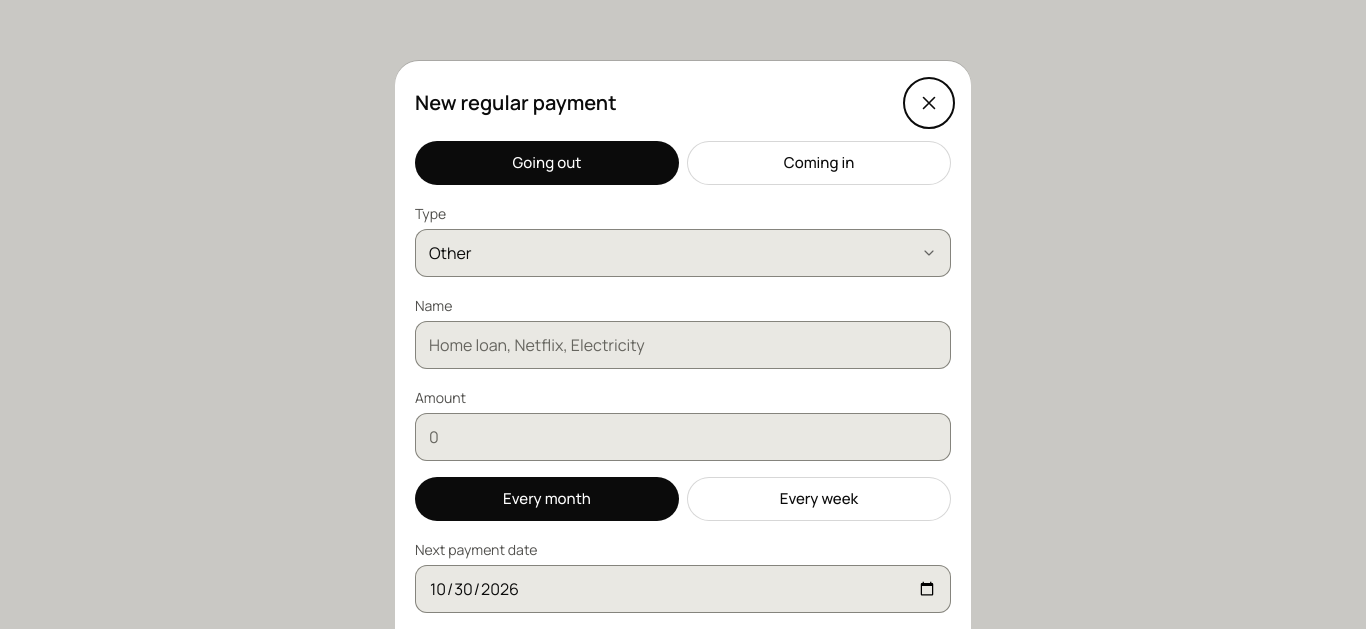
Test: Add a regular payment › offers the types that fit the direction
Click the button named "Type": (450,253) x1=415 y1=230 x2=951 y2=278
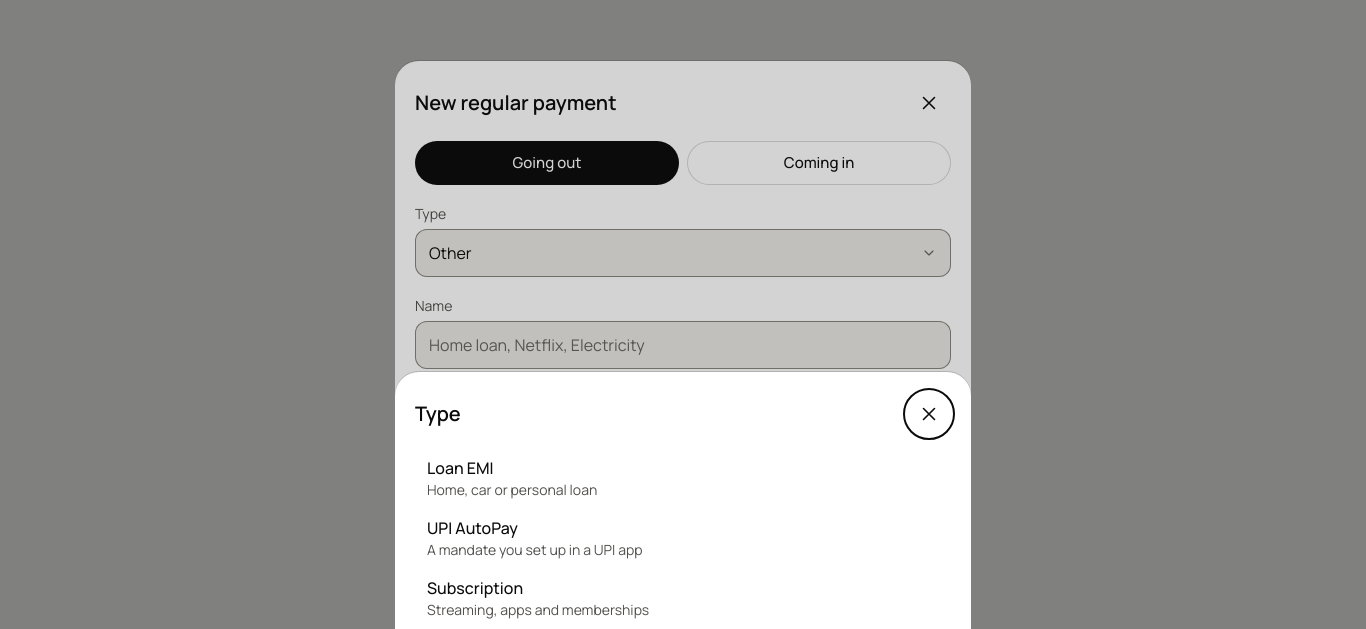
expect the radio button labelled "UPI AutoPay A mandate you set up in a UPI app" is shown: met, box x1=415 y1=508 x2=951 y2=568
